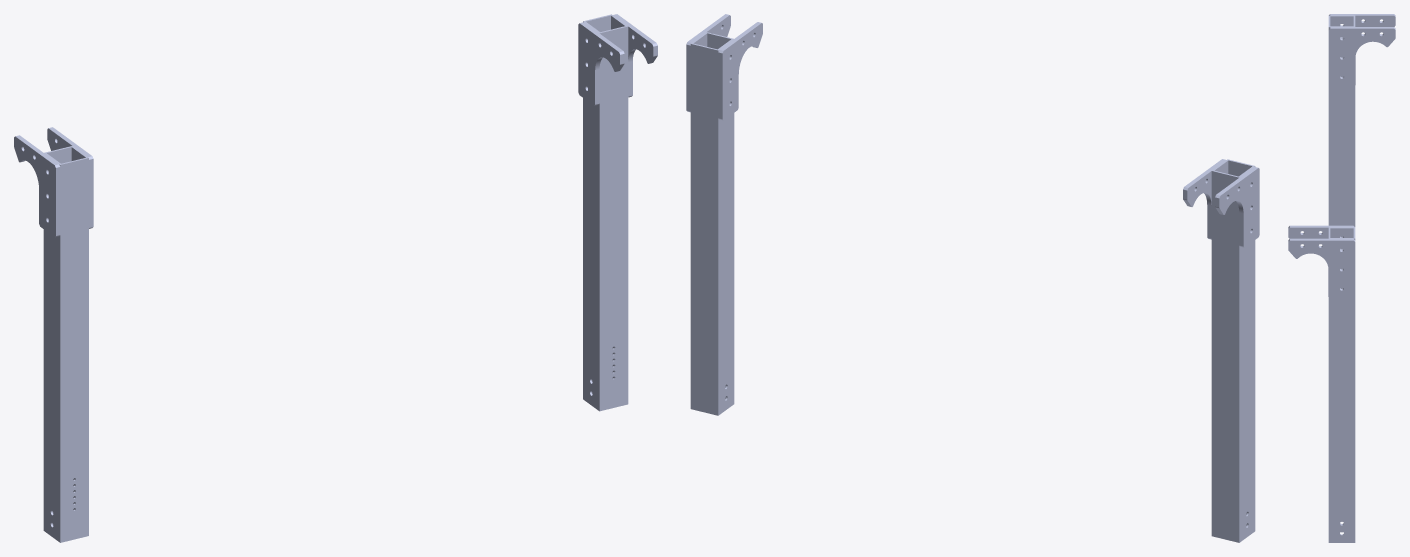
The picture shows the model from 3 angles, left to right: view 1: azimuth 30°, elevation 25°; view 2: azimuth 150°, elevation 25°; view 3: azimuth 270°, elevation 25°; orthographic projection. The views are drawn at different scales.
Parts seen in each view (by area): view 1: NAUO6, NAUO3, NAUO7, NAUO4, NAUO5, NAUO8; view 2: NAUO3, NAUO6, NAUO4, NAUO7, NAUO8, NAUO5; view 3: NAUO3, NAUO6, NAUO5, NAUO8, NAUO4, NAUO7.
Part boxes in pixels (bbox=[...]): NAUO6: bbox=[43, 146, 88, 542]; NAUO3: bbox=[583, 14, 628, 411]; NAUO7: bbox=[14, 135, 60, 237]; NAUO4: bbox=[578, 22, 624, 105]; NAUO5: bbox=[613, 14, 657, 97]; NAUO8: bbox=[47, 127, 93, 228]; NAUO3: bbox=[690, 32, 734, 415]; NAUO6: bbox=[1211, 159, 1255, 542]; NAUO4: bbox=[718, 22, 762, 120]; NAUO7: bbox=[1215, 167, 1259, 247]; NAUO8: bbox=[1183, 159, 1225, 239]; NAUO5: bbox=[686, 14, 730, 112]; NAUO3: bbox=[1328, 227, 1355, 542]; NAUO6: bbox=[1328, 15, 1355, 237]; NAUO5: bbox=[1288, 238, 1355, 298]; NAUO8: bbox=[1328, 27, 1395, 86]; NAUO4: bbox=[1288, 225, 1355, 248]; NAUO7: bbox=[1329, 14, 1395, 37].
Size of the model in its own units: 0.6388 by 0.4 by 0.1283.
